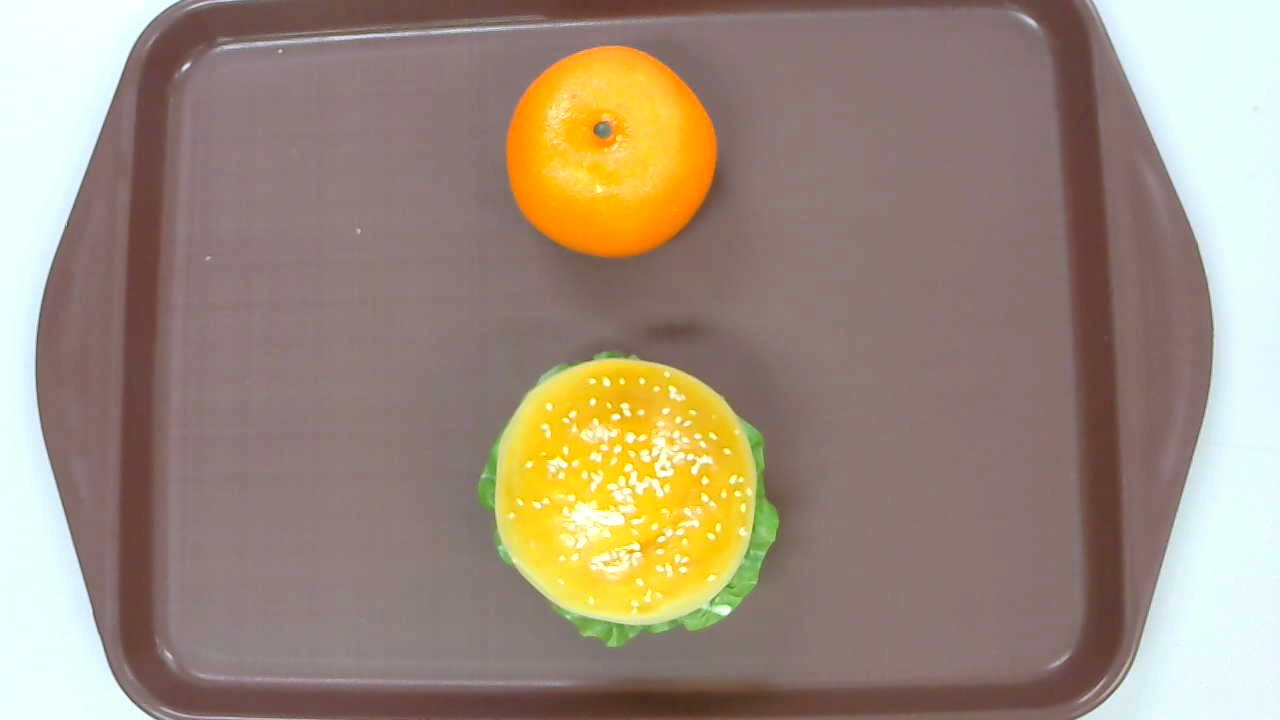hamburger: (476, 351, 781, 648)
orange: (505, 46, 717, 259)
